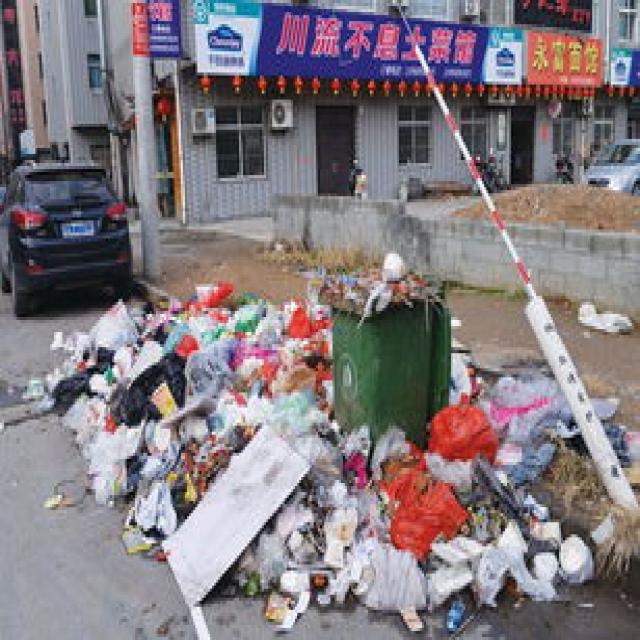garbage: (19, 278, 638, 637)
overflow: (316, 248, 451, 440)
